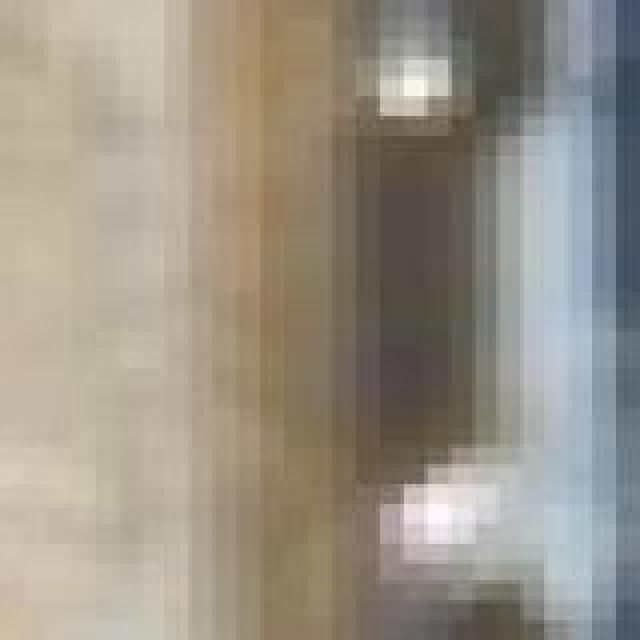clock: (0, 0, 576, 640)
